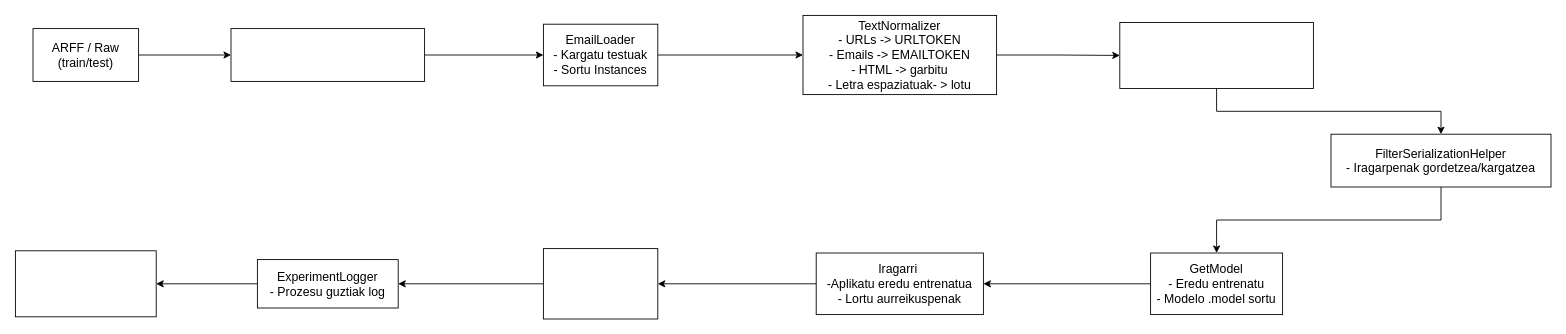
Image size: 1566x334. Some labels were removed from this diagram. Here are the shapes that lost their labels. From the top down, the centre of each, then its label:
At (x=327, y=54): "DataSplit / EmailLoader - Sarrera datuak - Partiketako azpi-multzoak".
At (x=1216, y=55): "EmailVectorizer - StringToWordVector - AtributeSelection - Tokenizer / Stemmer".
At (x=85, y=283): "Emaitzak .txt - Metrika orokorraka - Spam / Non-Spam - Txosten osoak".
At (x=600, y=283): "Evaluate - Accuracy - F-measure - Confusion Matrix".
